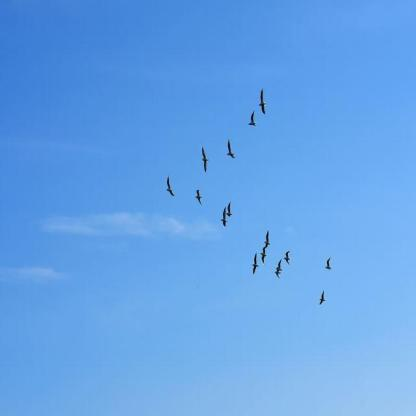bird: (245, 109, 262, 133), (323, 252, 338, 279), (257, 88, 270, 118), (200, 142, 210, 177), (226, 139, 239, 163), (253, 250, 262, 279), (165, 174, 174, 202), (317, 290, 330, 309), (196, 182, 202, 211), (260, 247, 268, 268), (287, 251, 295, 270), (265, 227, 271, 251), (222, 205, 227, 229), (227, 199, 231, 218)
